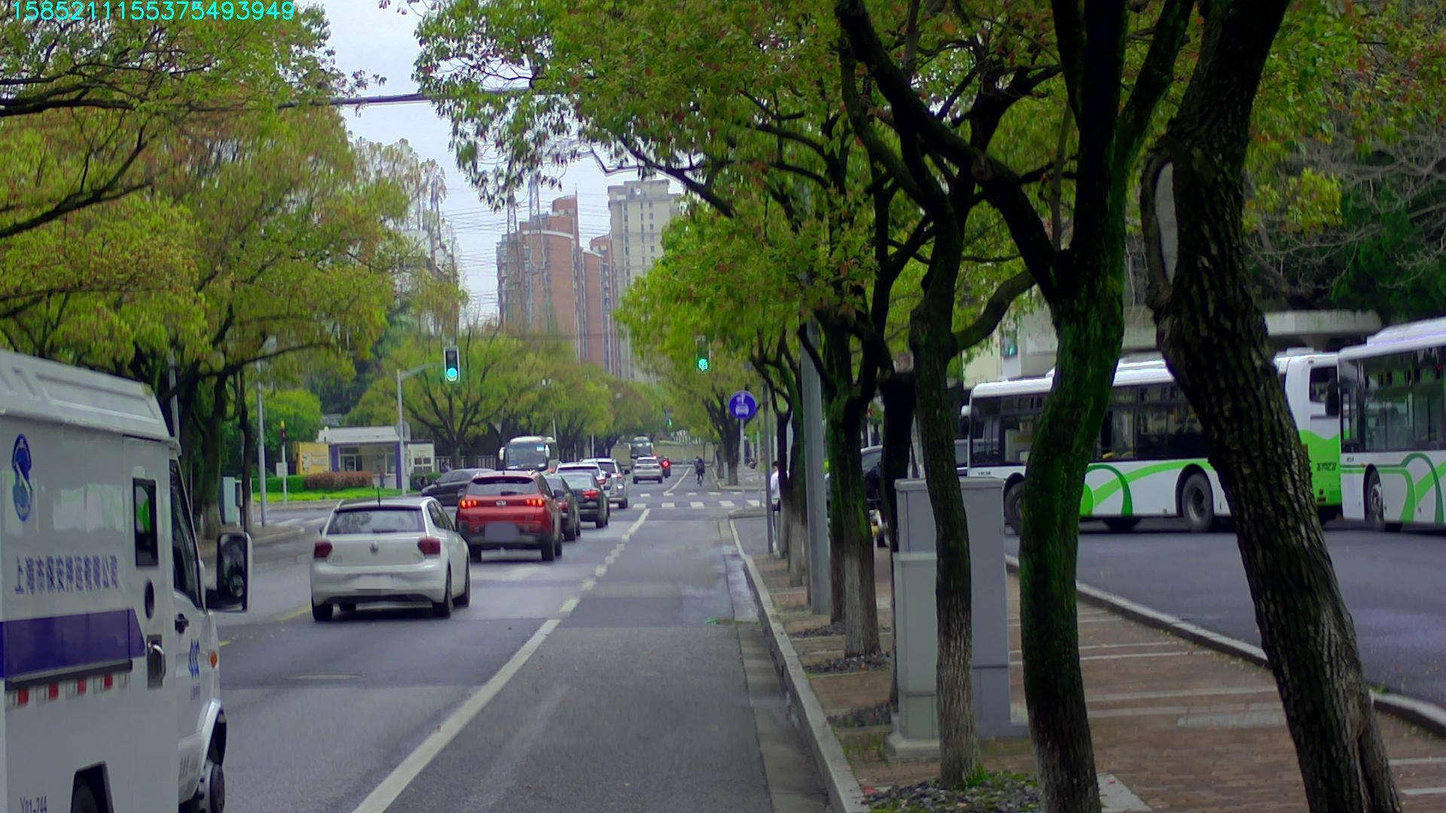green: (444, 346, 458, 381), (695, 339, 709, 371)
